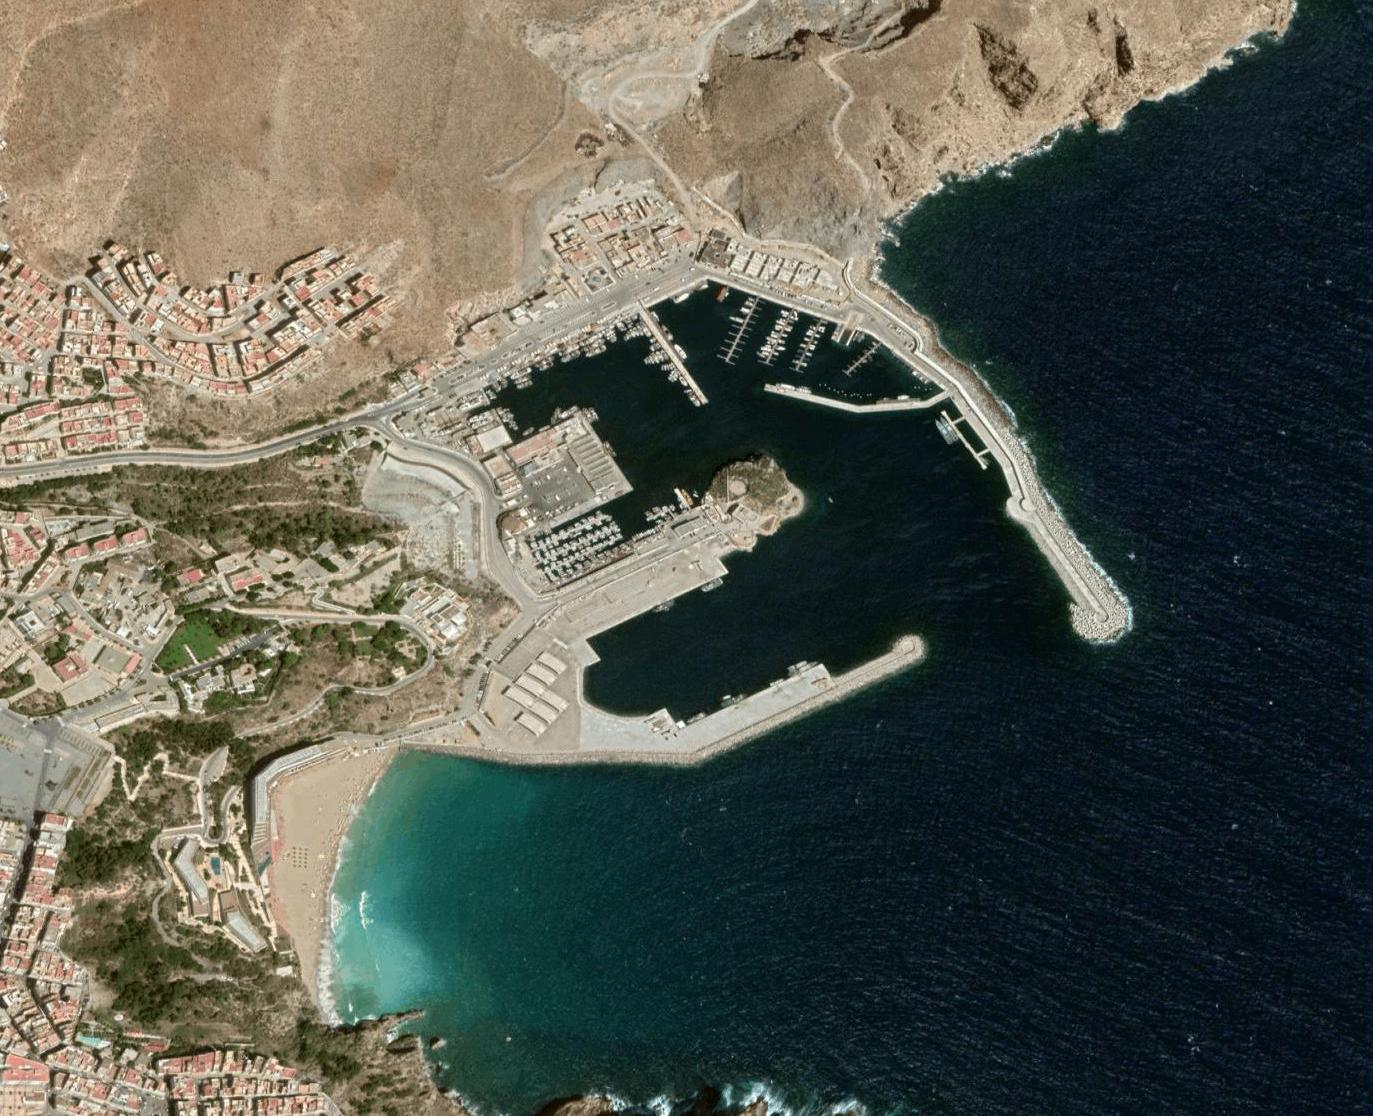harbor: (335, 222, 1179, 823)
